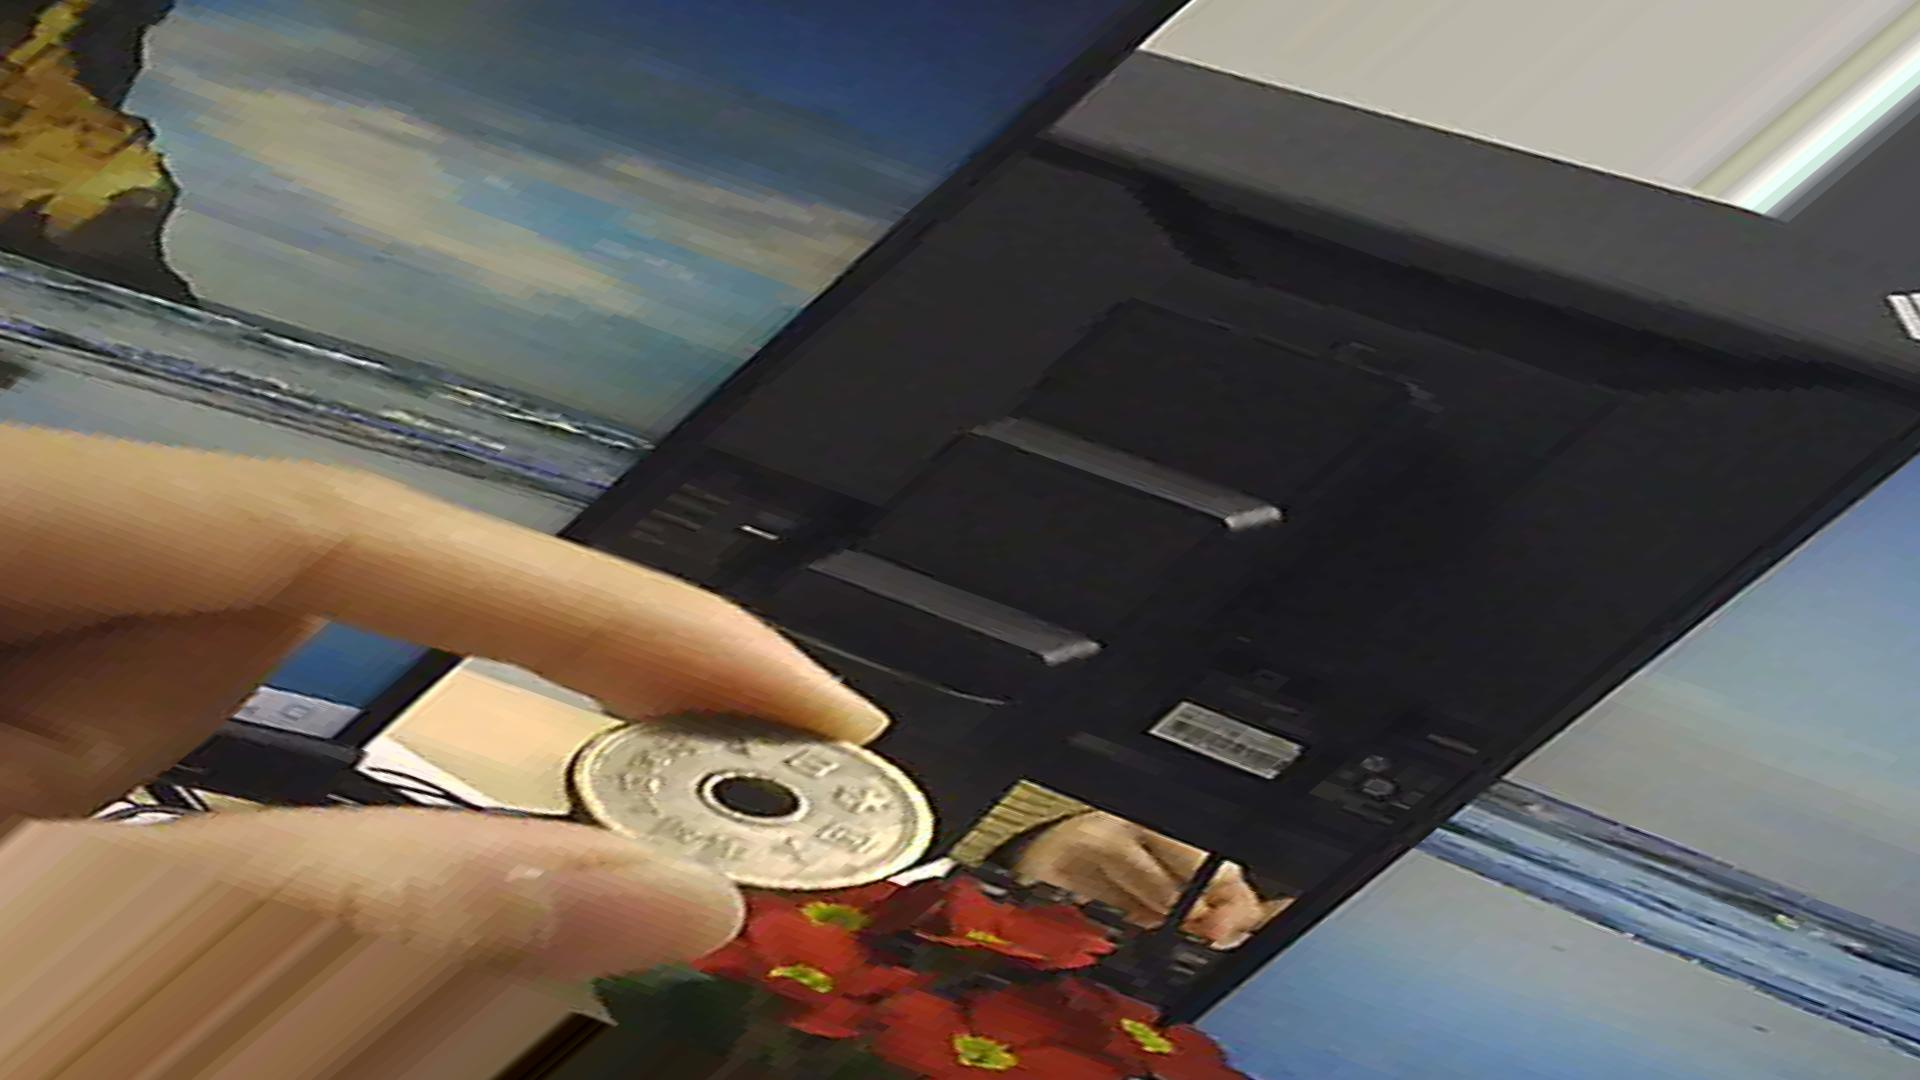5 Yen: (556, 694, 934, 902)
